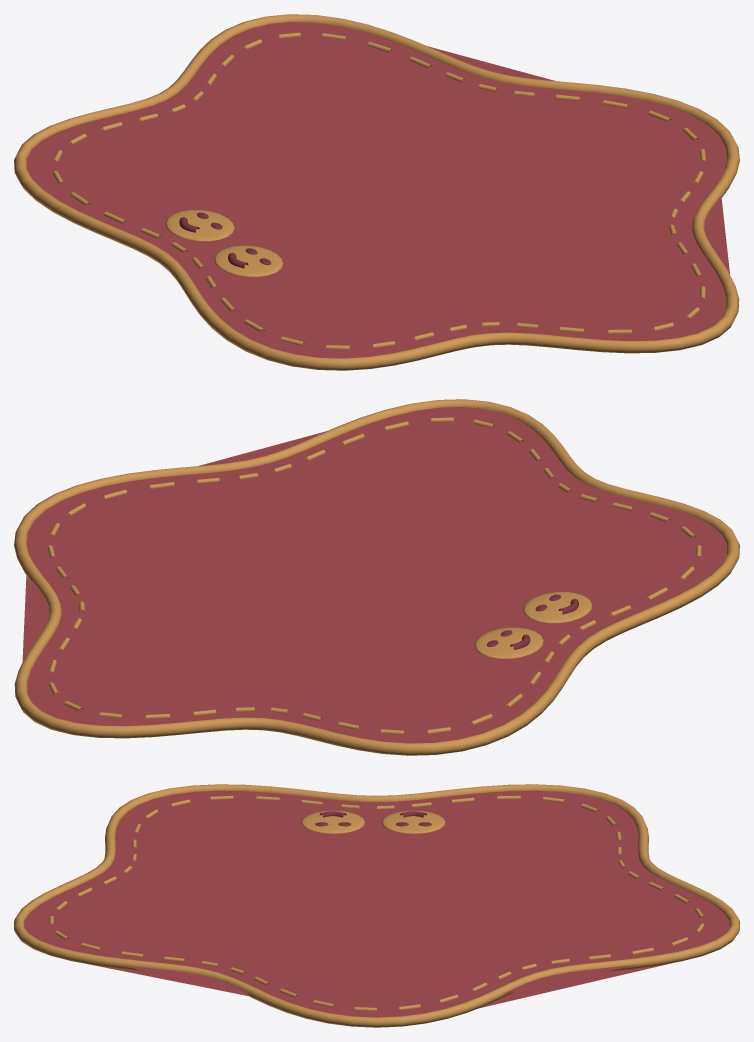
Rendered from SM_Hub_CompanyRug.fbx.
3 renders of one model, top to bottom at view 1: azimuth 30°, elevation 25°; view 2: azimuth 150°, elevation 25°; view 3: azimuth 270°, elevation 25°, orthographic. The views are drawn at different scales.
Visible parts, largest first — view 1: Company rug.001_Baked; view 2: Company rug.001_Baked; view 3: Company rug.001_Baked.
Boxes of the visible parts, bbox=[...] form: Company rug.001_Baked: bbox=[14, 14, 739, 370]; Company rug.001_Baked: bbox=[14, 399, 739, 755]; Company rug.001_Baked: bbox=[14, 784, 739, 1027].
Size of the model in its own units: 245 by 316 by 5.8.
